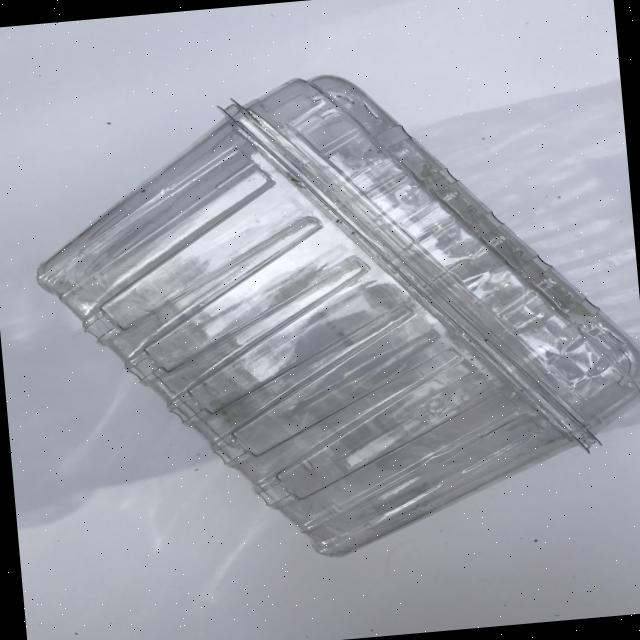plastic: (19, 47, 640, 581)
